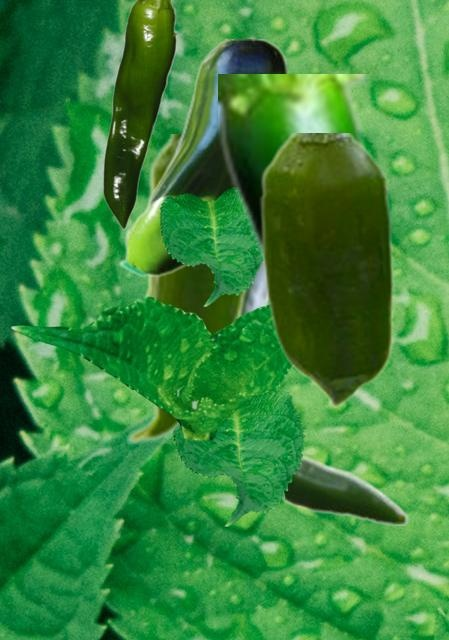green_chili: (245, 264, 408, 524), (124, 134, 255, 445), (118, 39, 285, 277), (259, 133, 393, 406), (218, 74, 377, 279), (102, 0, 175, 228)
